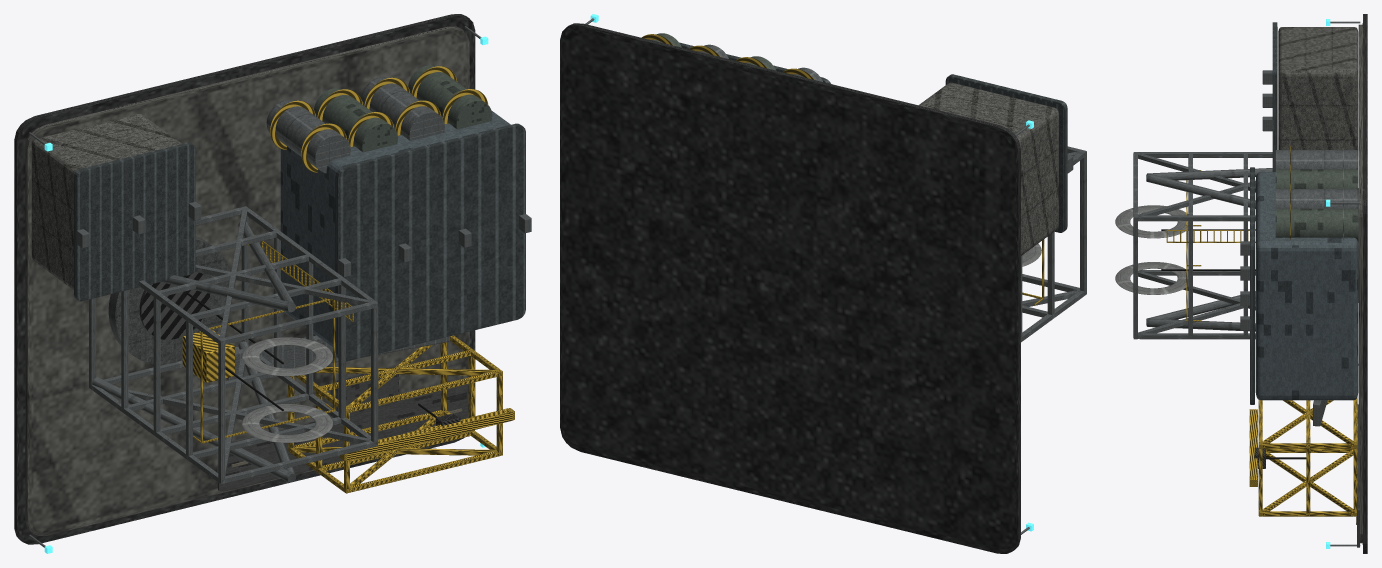
File: b-51-ore-mine-lod0.glb
3 views of the same model, side by side, from view 1: azimuth 30°, elevation 25°; view 2: azimuth 150°, elevation 25°; view 3: azimuth 270°, elevation 25° (orthographic). The views are drawn at different scales.
Parts seen in each view (by area): view 1: foundation_inner_pad, ore_processing_hall_roof, ore_winding_house_roof, foundation, ore_winding_house_main_hall, ore_processing_hall_main_hall, ore_truck_lane_road, ore_shaft_collar, concentrate_bin_0_vessel, concentrate_bin_2_vessel, concentrate_bin_3_vessel, concentrate_bin_1_vessel (+40 smaller); view 2: foundation, ore_winding_house_main_hall, ore_winding_house_roof, primary_mine_headframe_beam_y_4_w, primary_mine_headframe_beam_y_3_w; view 3: ore_processing_hall_main_hall, ore_winding_house_main_hall, foundation, concentrate_bin_3_vessel, foundation_inner_pad, concentrate_bin_1_vessel, concentrate_bin_0_vessel, concentrate_bin_2_vessel, headframe_hoist_wheel_-1, ore_processing_hall_roof, headframe_hoist_wheel_1, headframe_splay_1_rear (+27 smaller).
Boxes of the visible parts, x1,y1,x2,y2 form: foundation_inner_pad: [25, 26, 469, 535]; ore_processing_hall_roof: [335, 123, 525, 361]; ore_winding_house_roof: [74, 142, 195, 301]; foundation: [14, 14, 475, 544]; ore_winding_house_main_hall: [31, 114, 181, 289]; ore_processing_hall_main_hall: [280, 110, 510, 347]; ore_truck_lane_road: [218, 384, 468, 491]; ore_shaft_collar: [108, 236, 230, 364]; concentrate_bin_0_vessel: [266, 100, 350, 173]; concentrate_bin_2_vessel: [361, 77, 444, 140]; concentrate_bin_3_vessel: [408, 65, 492, 129]; concentrate_bin_1_vessel: [314, 88, 397, 152]; foundation: [560, 23, 1020, 553]; ore_winding_house_main_hall: [919, 82, 1058, 255]; ore_winding_house_roof: [945, 74, 1067, 232]; primary_mine_headframe_beam_y_4_w: [1080, 150, 1086, 292]; primary_mine_headframe_beam_y_3_w: [1047, 231, 1054, 314]; ore_processing_hall_main_hall: [1255, 172, 1358, 400]; ore_winding_house_main_hall: [1278, 27, 1358, 149]; foundation: [1362, 14, 1367, 553]; concentrate_bin_3_vessel: [1275, 208, 1358, 241]; foundation_inner_pad: [1358, 24, 1362, 543]; concentrate_bin_1_vessel: [1275, 169, 1358, 188]; concentrate_bin_0_vessel: [1275, 150, 1358, 169]; concentrate_bin_2_vessel: [1275, 189, 1358, 208]; headframe_hoist_wheel_-1: [1115, 262, 1188, 294]; ore_processing_hall_roof: [1250, 167, 1254, 404]; headframe_hoist_wheel_1: [1115, 205, 1188, 238]; headframe_splay_1_rear: [1146, 174, 1255, 208].
Size of what is drawn, in the model's own units: 18 by 16 by 10.1.
Materials: 14 (14 with a texture image).
